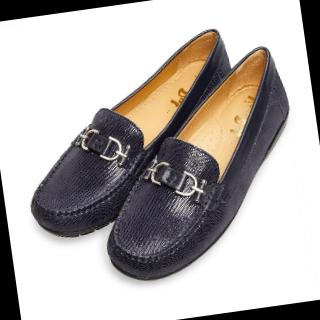loafers: (5, 15, 318, 298)
